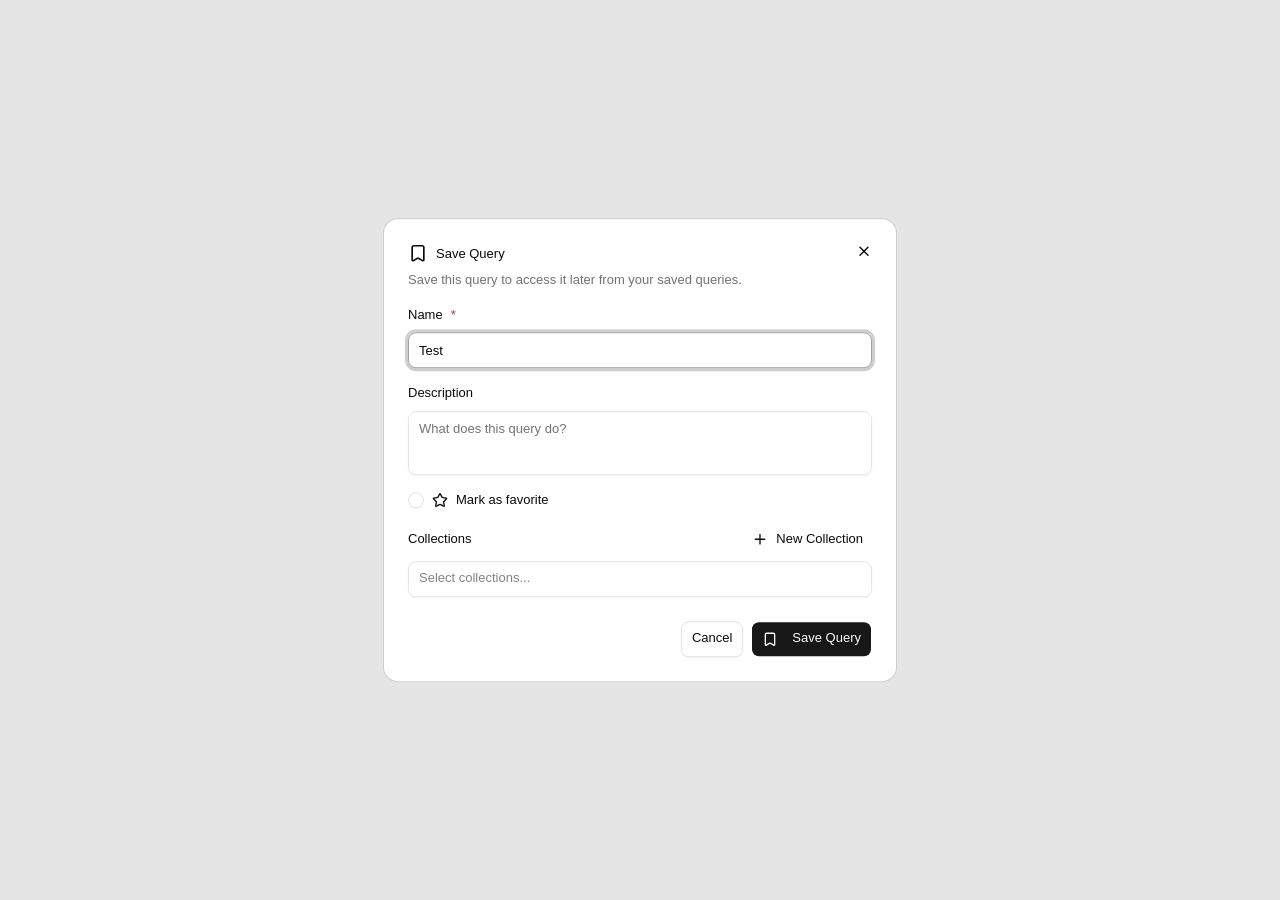
Scenario: saveQueryDialog › validation › should show validation error when submitting with empty name
The image size is (1280, 900).
Clear the field with placeholder "e.g., User Statistics Query" at (640, 350), box [408, 332, 872, 368]
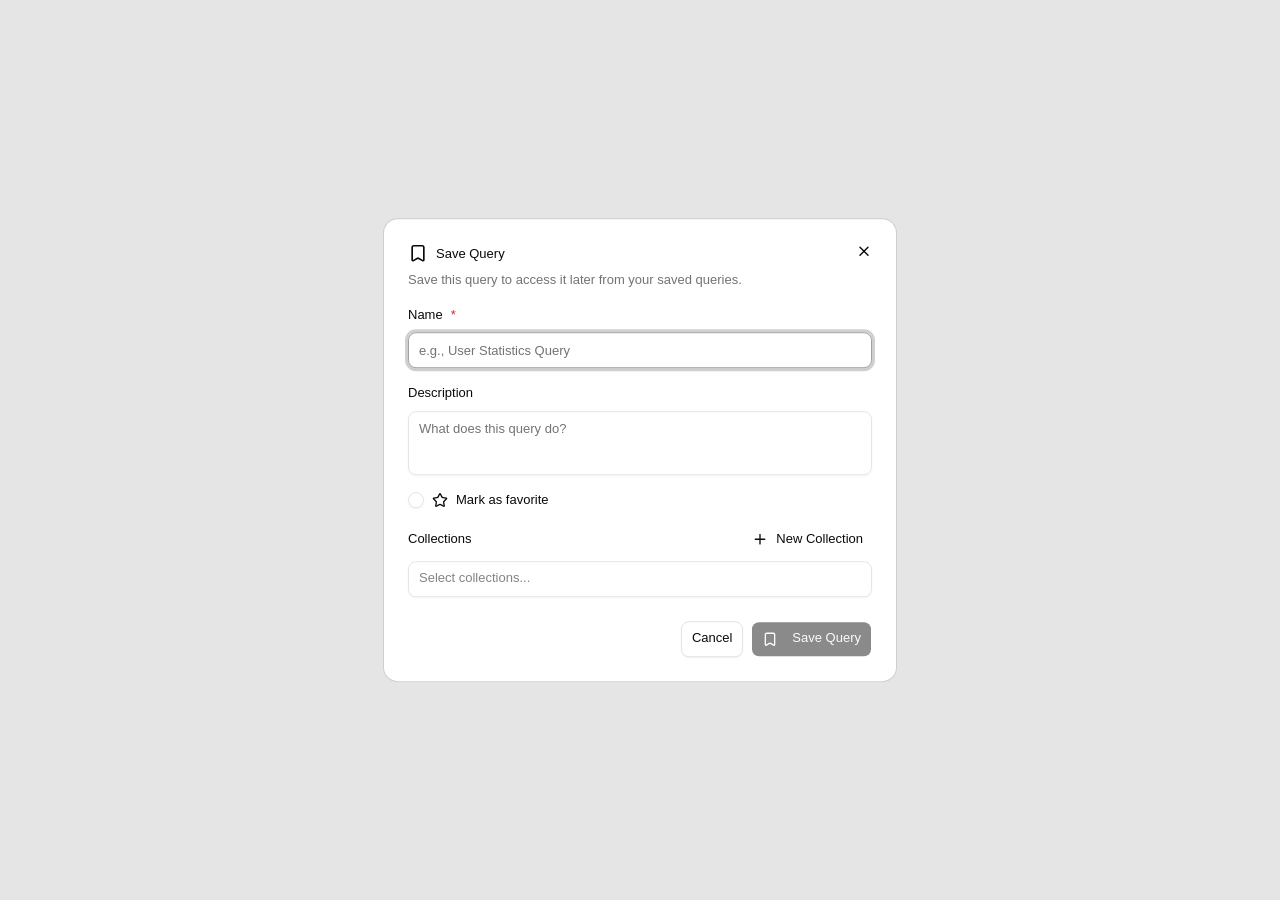
Expected: the button "Save Query" is disabled, [751, 621, 872, 657]
